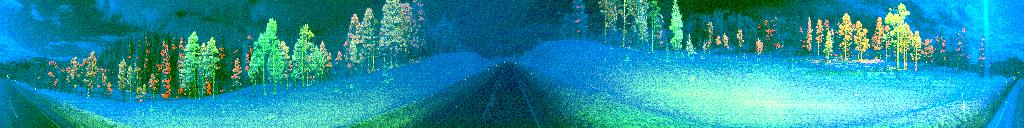pole: (960, 88, 968, 124)
